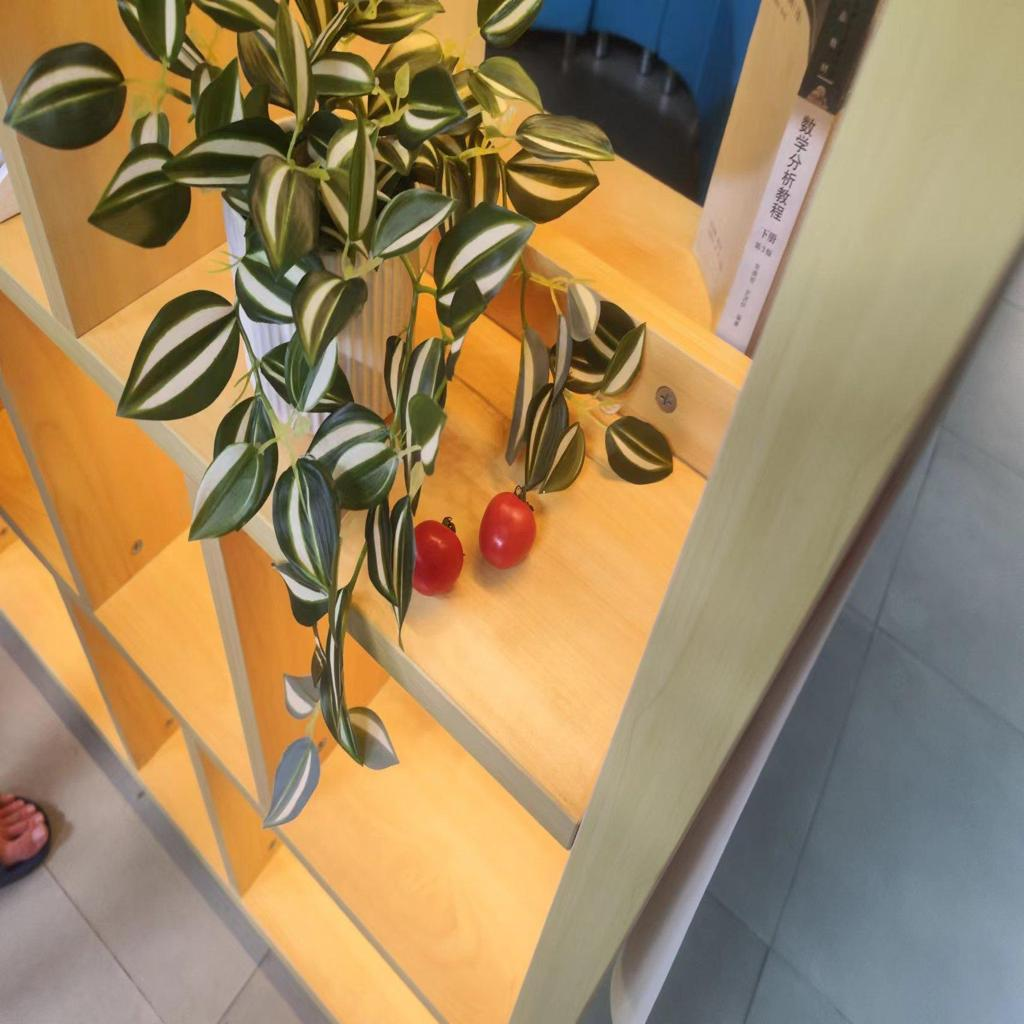tomato: (405, 518, 466, 602), (480, 482, 535, 575)
